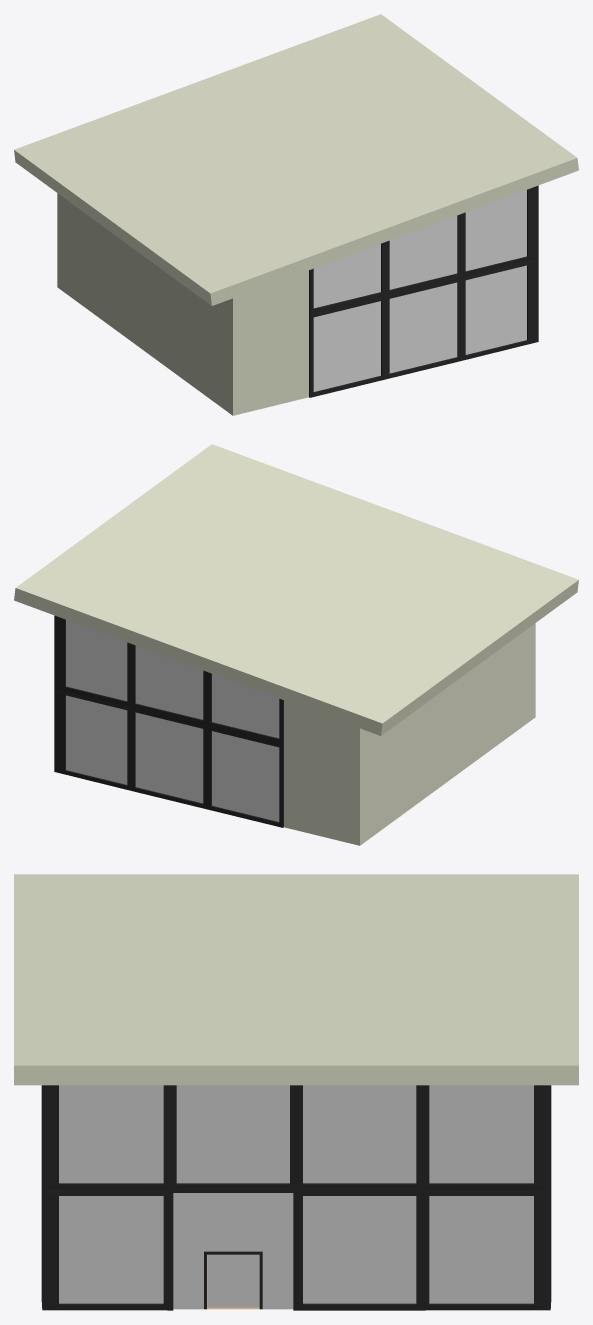
Rendered from Garaj.fbx.
The picture shows the model from 3 angles, top to bottom: view 1: azimuth 30°, elevation 25°; view 2: azimuth 150°, elevation 25°; view 3: azimuth 270°, elevation 25°; orthographic projection. The views are drawn at different scales.
Parts seen in each view (by area): view 1: Roof, Tipo base, Glass; view 2: Roof, Tipo base, Glass; view 3: Roof, Glass, Tipo base, Dora 1, Dora 2.
Boxes of the visible parts, x1,y1,x2,y2 form: Roof: (14,14,578,305); Tipo base: (57,185,538,415); Glass: (313,190,526,391); Roof: (14,444,578,735); Tipo base: (54,615,535,845); Glass: (66,620,279,821); Roof: (14,874,578,1085); Glass: (59,1085,533,1309); Tipo base: (41,1085,551,1310); Dora 1: (233,1254,259,1307); Dora 2: (207,1254,233,1307).
Bounding box in the file's own units: 1219 × 582 × 1125.
